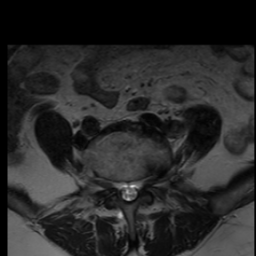CCS_normal: (124, 172, 131, 209)
LFS_normal: (140, 166, 149, 194)
LLS_normal: (131, 173, 140, 204)
RFS_stenosis: (107, 171, 115, 196)
RLS_normal: (115, 172, 124, 204)
